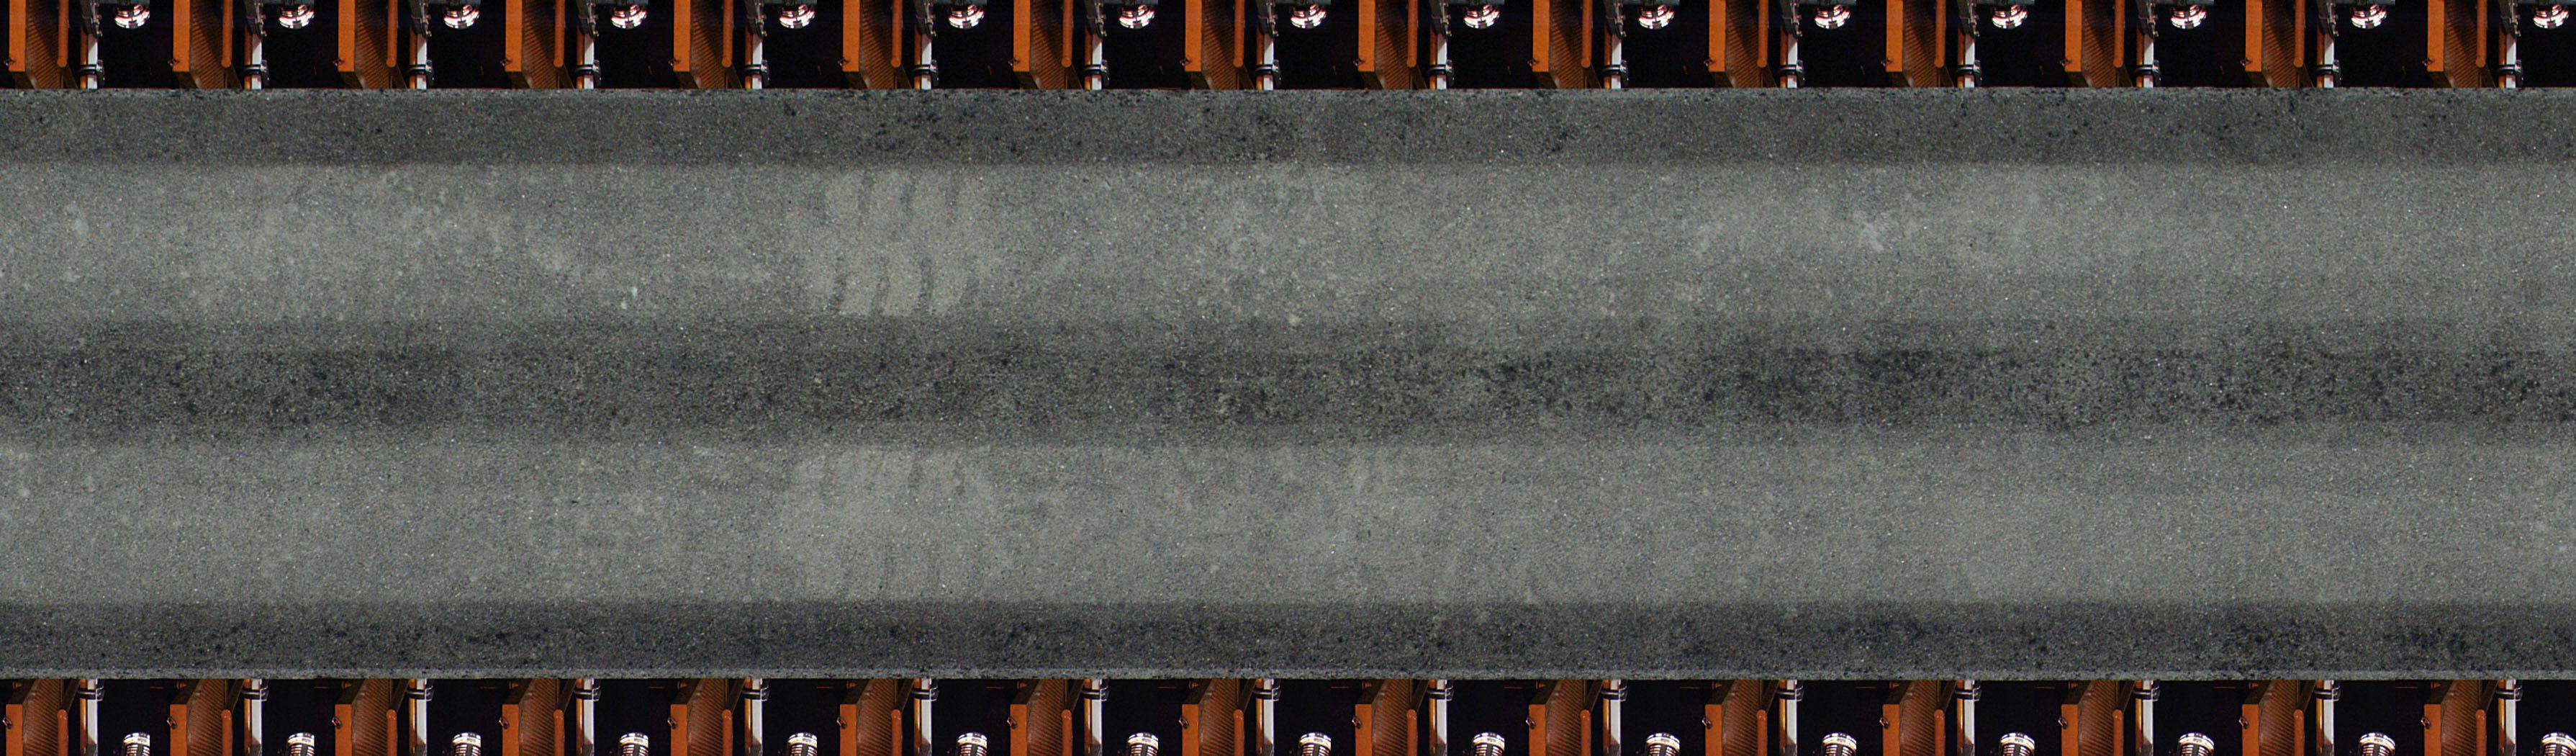concrete: (7, 94, 2576, 677)
